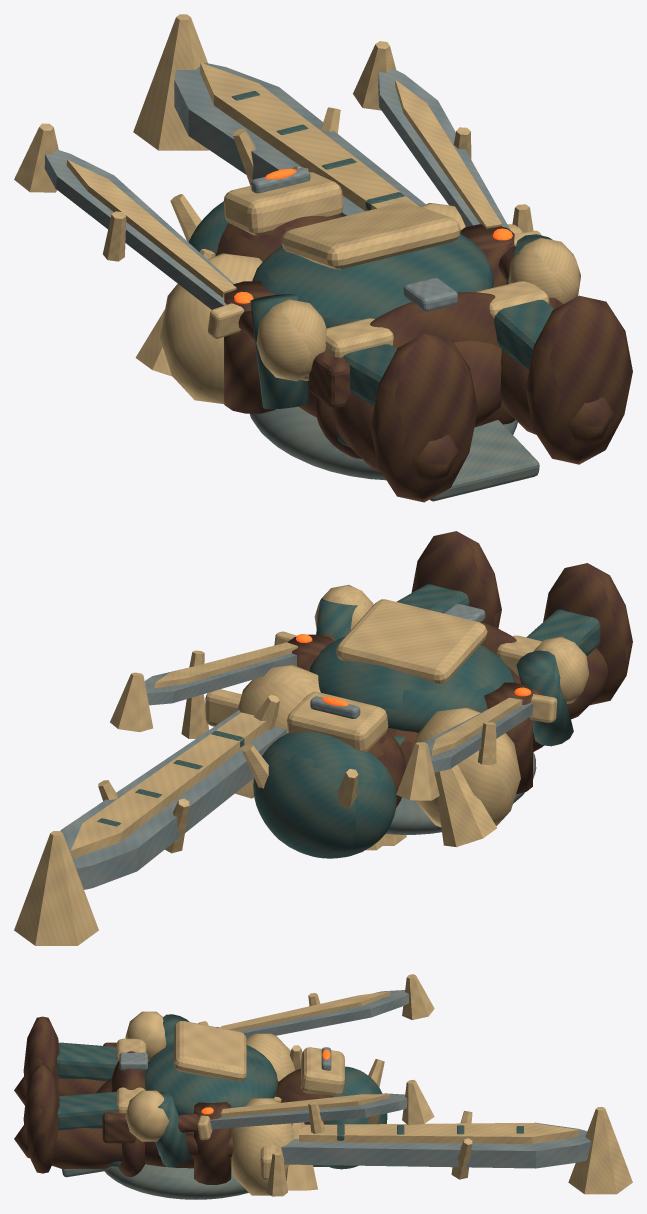
The model's file is hunter.glb.
3 renders of one model, top to bottom at view 1: azimuth 30°, elevation 25°; view 2: azimuth 150°, elevation 25°; view 3: azimuth 270°, elevation 25°, orthographic. The views are drawn at different scales.
Visible parts, largest first — view 1: boot_l, boot_r, chest_shell, weapon_blade_core, chest_plate, weapon_blade, shoulder_l, belt, dual_blade_l, weapon_tip, helmet_front, dual_blade_r (+28 smaller); view 2: helmet_shell, chest_shell, weapon_blade, chest_plate, weapon_blade_core, weapon_tip, boot_l, boot_r, shoulder_l, helmet_front, shoulder_spike_l, shoulder_r (+28 smaller); view 3: weapon_blade, weapon_blade_core, chest_shell, chest_plate, weapon_tip, boot_r, shoulder_r, back_shell, leg_r, dual_blade_r, arm_upper_r, dual_blade_l (+29 smaller).
Boxes of the visible parts, x1,y1,x2,y2 form: boot_l: (370,333,477,502); boot_r: (525,295,632,464); chest_shell: (252,234,493,328); weapon_blade_core: (200,62,418,211); chest_plate: (281,202,460,269); weapon_blade: (174,62,425,216); shoulder_l: (160,253,262,403); belt: (315,292,515,458); dual_blade_l: (44,149,233,309); weapon_tip: (133,14,208,150); helmet_front: (223,172,343,235); dual_blade_r: (378,68,510,230); helmet_shell: (253,731,396,858); chest_shell: (309,636,515,732); weapon_blade: (60,710,286,889); chest_plate: (336,599,487,684); weapon_blade_core: (70,712,266,858); weapon_tip: (14,831,98,945); boot_l: (543,563,632,705); boot_r: (411,531,501,628); shoulder_l: (413,707,520,827); helmet_front: (287,691,388,751); shoulder_spike_l: (434,764,496,847); shoulder_r: (237,665,320,733); weapon_blade: (281,1122,591,1168); weapon_blade_core: (299,1123,578,1143); chest_shell: (144,1044,278,1114); chest_plate: (174,1021,246,1081); weapon_tip: (568,1107,632,1194); boot_r: (23,1065,59,1173); shoulder_r: (231,1098,293,1195); back_shell: (105,1164,248,1199); leg_r: (14,1125,122,1168); dual_blade_r: (210,1093,407,1129); arm_upper_r: (194,1102,231,1184); dual_blade_l: (239,990,408,1039).
Bounding box in the file's own units: 2.52 × 1.43 × 5.17.
6 materials, 6 textured.
